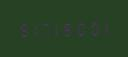nine: (17, 20, 28, 37), (65, 19, 76, 36)
one: (29, 20, 40, 37), (101, 19, 112, 36), (53, 20, 64, 36)
seven: (41, 20, 52, 37)
zero: (77, 19, 88, 36), (89, 19, 100, 36)
